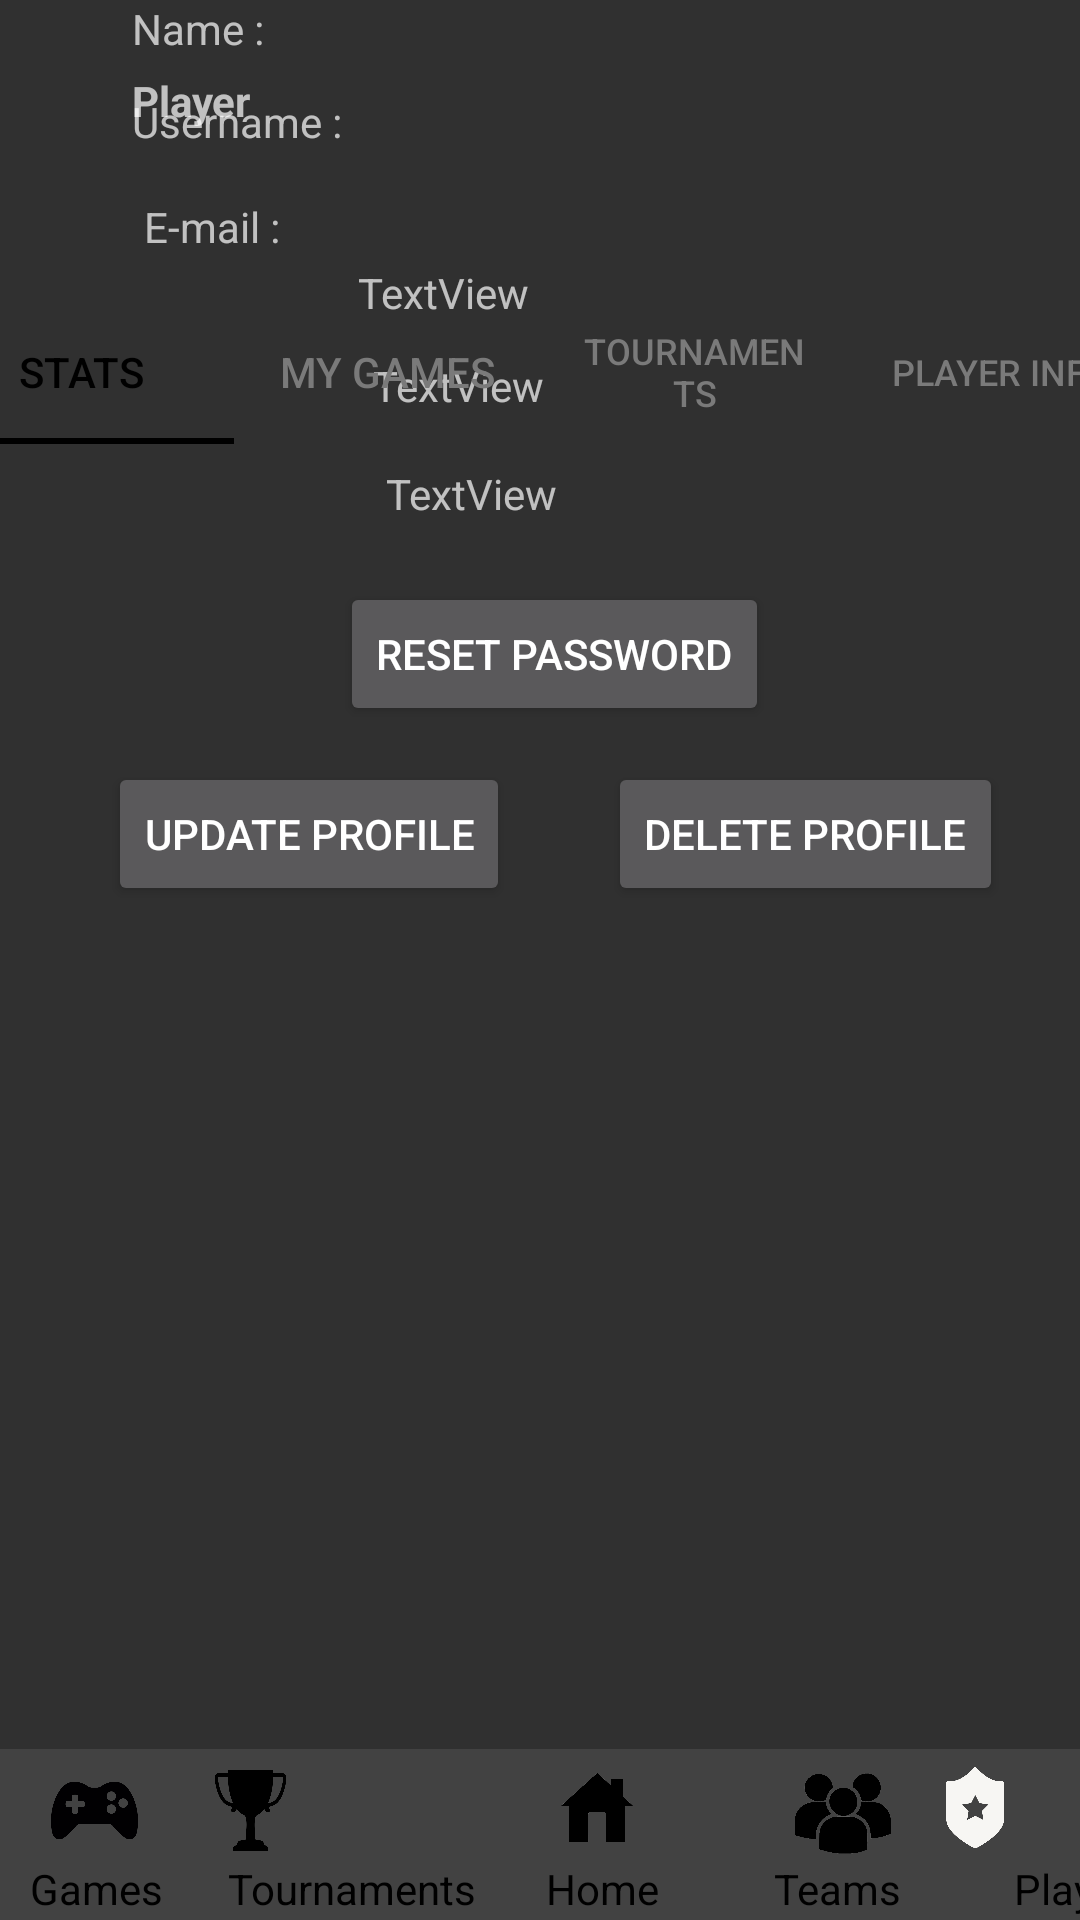

Screen size 1080px x 1920px. Icon name, then its center in pixels as (x=x, y=y):
console: (x=94, y=1810)
cup: (x=250, y=1810)
rankwhite: (x=975, y=1807)
